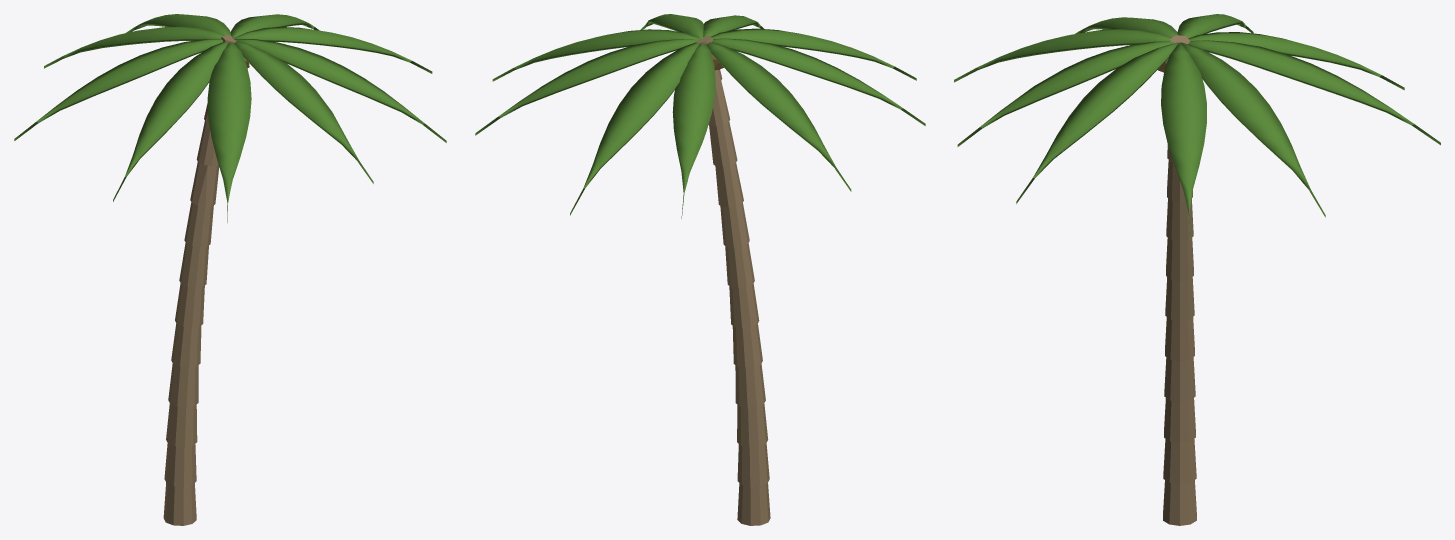
File: palm2.glb
The picture shows the model from 3 angles, left to right: view 1: azimuth 30°, elevation 25°; view 2: azimuth 150°, elevation 25°; view 3: azimuth 270°, elevation 25°; orthographic projection. The views are drawn at different scales.
Visible parts, largest first — view 1: fronds, trunk; view 2: fronds, trunk; view 3: fronds, trunk.
Boxes of the visible parts, box(x1,y1,x2,y2) form: fronds: box(14, 14, 446, 222); trunk: box(163, 35, 236, 525); fronds: box(475, 14, 925, 218); trunk: box(695, 36, 770, 525); fronds: box(954, 14, 1440, 239); trunk: box(1163, 35, 1196, 525).
Bounding box in the file's own units: 7.84 × 9.05 × 7.89.
